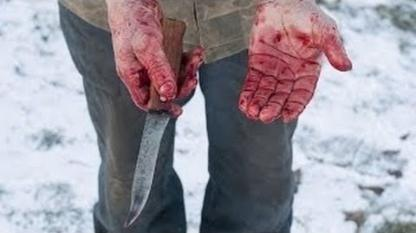knife: (118, 85, 186, 228)
